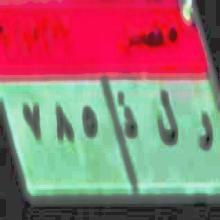5: (80, 100, 98, 146)
7: (22, 95, 43, 151)
8: (52, 102, 75, 153)
laam: (154, 77, 179, 154)
raa: (195, 108, 214, 156)
zaal: (116, 87, 138, 148)
